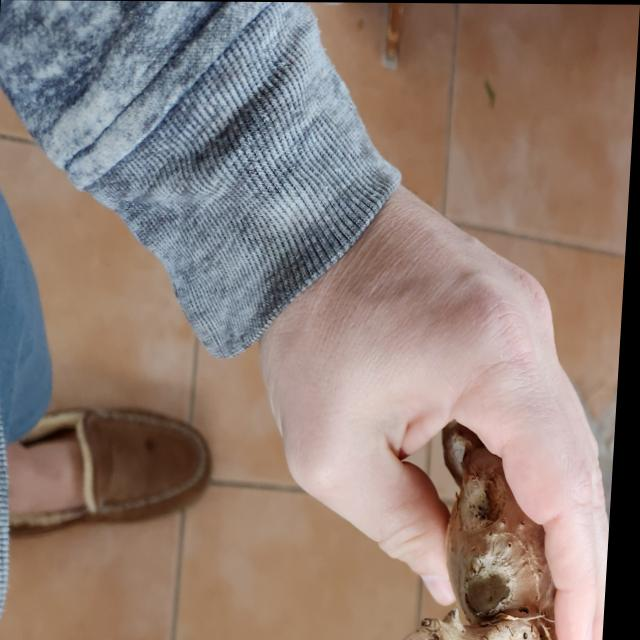ginger: (400, 429, 620, 640)
